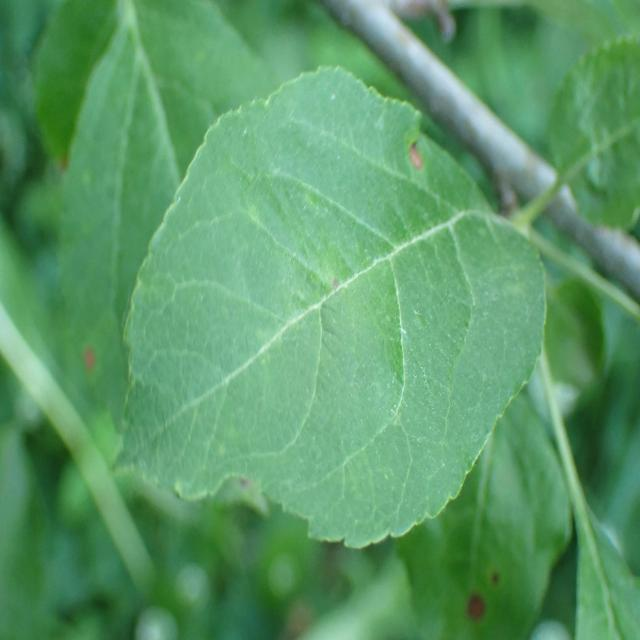Black Rot: (398, 125, 432, 185), (456, 578, 492, 634), (323, 276, 354, 308)
